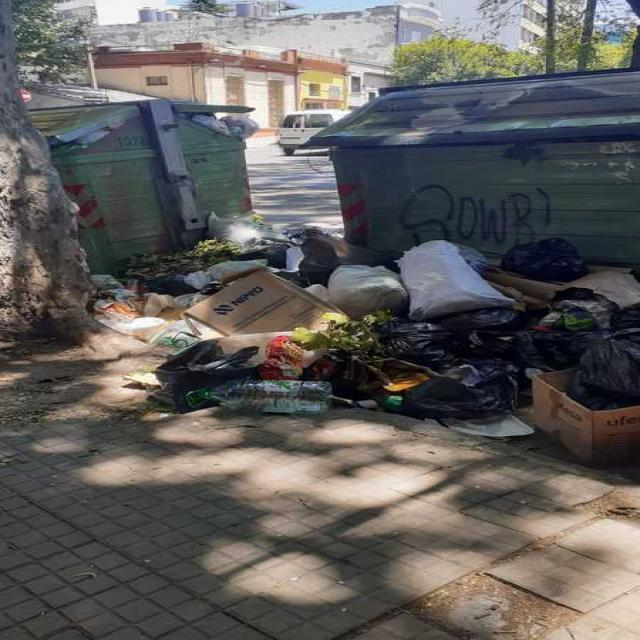garbage: (172, 198, 639, 486), (72, 255, 176, 338)
